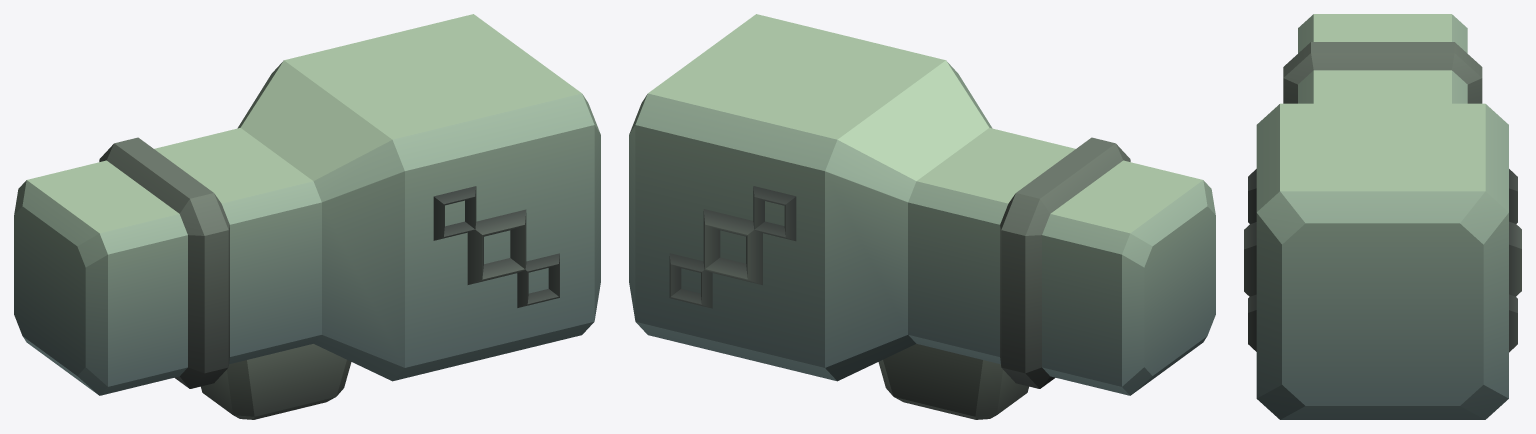
File: hammer-head_002.fbx
3 renders of one model, left to right at view 1: azimuth 30°, elevation 25°; view 2: azimuth 150°, elevation 25°; view 3: azimuth 270°, elevation 25°, orthographic. The views are drawn at different scales.
Parts seen in each view (by area): view 1: hammer-head.002; view 2: hammer-head.002; view 3: hammer-head.002.
Boxes of the visible parts, left/top/right/bottom form: hammer-head.002: left=14, top=14, right=600, bottom=419; hammer-head.002: left=629, top=14, right=1215, bottom=419; hammer-head.002: left=1244, top=14, right=1521, bottom=419.
Size of the model in its own units: 51.73 by 28.08 by 26.42.
